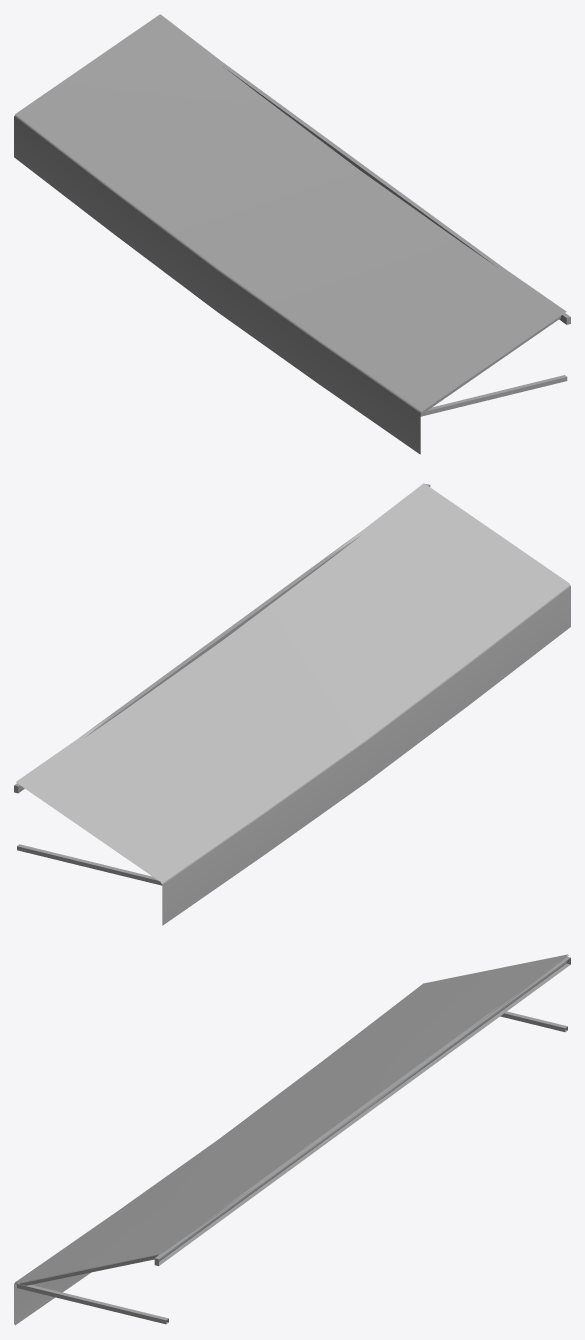
File: MB_Canopy_05.fbx
The picture shows the model from 3 angles, top to bottom: view 1: azimuth 30°, elevation 25°; view 2: azimuth 150°, elevation 25°; view 3: azimuth 330°, elevation 25°; orthographic projection.
Parts seen in each view (by area): view 1: MB_Canopy_05; view 2: MB_Canopy_05; view 3: MB_Canopy_05.
Boxes of the visible parts, box(x1,y1,x2,y2) form: MB_Canopy_05: box(14, 14, 570, 454); MB_Canopy_05: box(14, 483, 570, 925); MB_Canopy_05: box(14, 954, 570, 1325).
Bounding box in the file's own units: 150 × 109 × 712.
